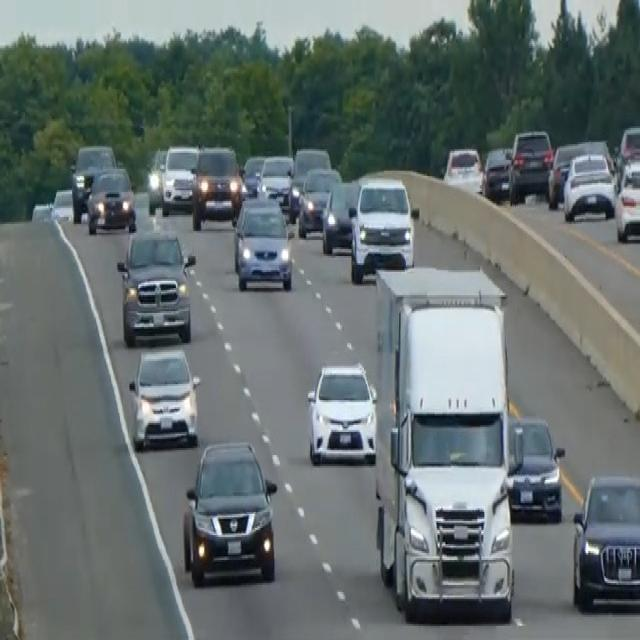car: (181, 437, 278, 587), (571, 471, 639, 612), (116, 226, 196, 345), (127, 343, 200, 450), (305, 359, 377, 466), (348, 174, 415, 281), (506, 412, 565, 522), (232, 194, 293, 292), (191, 143, 242, 230), (562, 150, 616, 220), (85, 163, 137, 234), (507, 126, 554, 203), (70, 142, 116, 220), (288, 144, 331, 220), (297, 166, 341, 238), (321, 178, 360, 254), (160, 142, 200, 214), (546, 140, 586, 207), (613, 160, 639, 242), (256, 153, 294, 208), (443, 144, 483, 196), (482, 144, 512, 201), (145, 146, 166, 213), (616, 122, 639, 172), (240, 153, 265, 197)
lorry: (371, 263, 518, 622)
